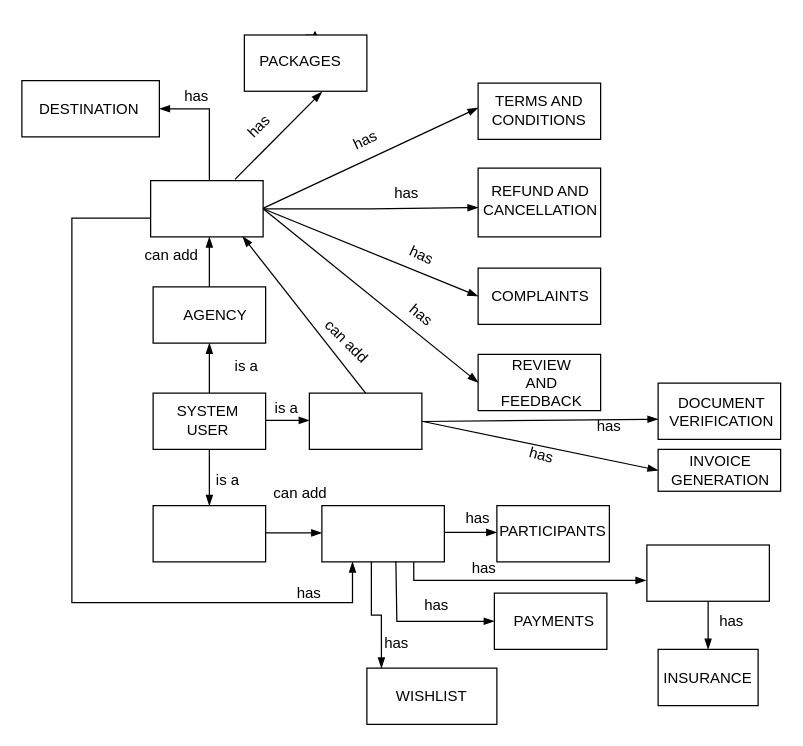
Image size: 803x746. Some labels were removed from this diagram. Here are the shapes that lost their labels. From the top down, the centre of each, then its label:
At point 206,208: "TOUR".
At point 365,420: "CONSULTANT".
At point 209,533: "CUSTOMER".
At point 382,533: "TOUR BOOKING".
At point 707,572: "TICKET".
